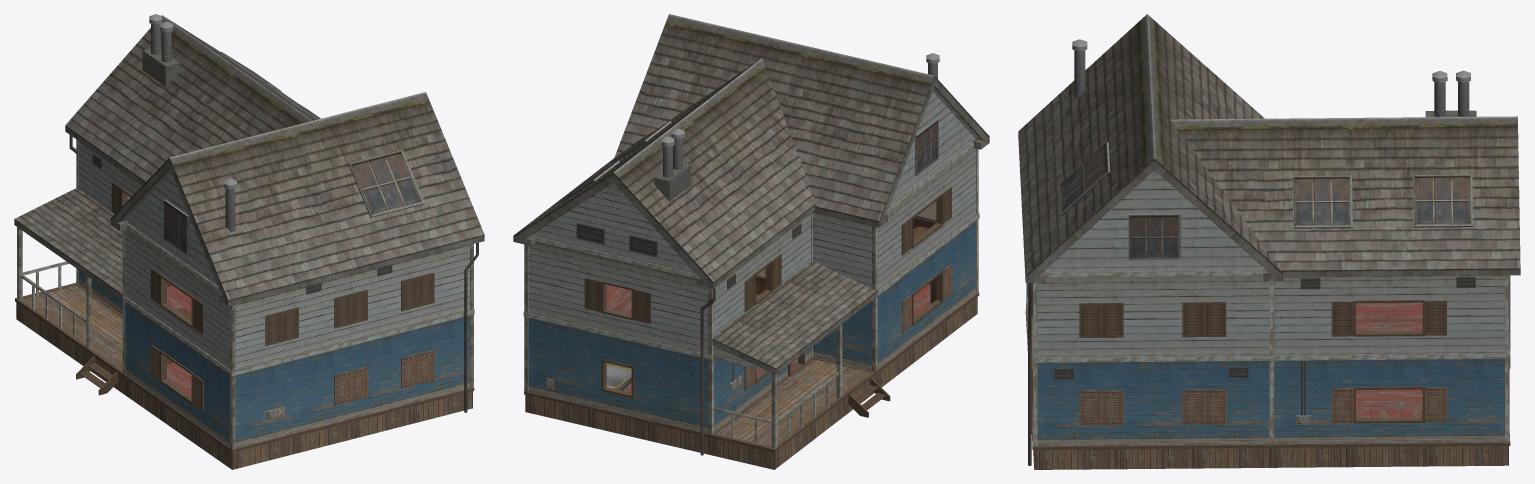
Rendered from house_ff.glb.
3 views of the same model, side by side, from view 1: azimuth 30°, elevation 25°; view 2: azimuth 150°, elevation 25°; view 3: azimuth 270°, elevation 25° (orthographic). The views are drawn at different scales.
Visible parts, largest first — view 1: concrete_wall_01D_D_MT_Concrete_Wall_01D, wood_wall_01_D_MT_Wood_Wall_01_D.027_0, wood_house_01A_D_MT_Wood_House_01A_D.031; view 2: concrete_wall_01D_D_MT_Concrete_Wall_01D, wood_wall_01_D_MT_Wood_Wall_01_D.027_0, wood_house_01A_D_MT_Wood_House_01A_D.031, bed items_MT_Others_Props_01_D.068_0; view 3: concrete_wall_01D_D_MT_Concrete_Wall_01D, wood_wall_01_D_MT_Wood_Wall_01_D.027_0, wood_house_01A_D_MT_Wood_House_01A_D.031.
Part boxes in pixels (x1=…): concrete_wall_01D_D_MT_Concrete_Wall_01D: x1=14, y1=14, x2=484, y2=419; wood_wall_01_D_MT_Wood_Wall_01_D.027_0: x1=17, y1=139, x2=474, y2=449; wood_house_01A_D_MT_Wood_House_01A_D.031: x1=15, y1=182, x2=474, y2=469; concrete_wall_01D_D_MT_Concrete_Wall_01D: x1=513, y1=14, x2=989, y2=455; wood_wall_01_D_MT_Wood_Wall_01_D.027_0: x1=523, y1=91, x2=979, y2=448; wood_house_01A_D_MT_Wood_House_01A_D.031: x1=524, y1=187, x2=979, y2=469; bed items_MT_Others_Props_01_D.068_0: x1=606, y1=218, x2=936, y2=390; concrete_wall_01D_D_MT_Concrete_Wall_01D: x1=1018, y1=14, x2=1520, y2=465; wood_wall_01_D_MT_Wood_Wall_01_D.027_0: x1=1026, y1=170, x2=1510, y2=446; wood_house_01A_D_MT_Wood_House_01A_D.031: x1=1025, y1=283, x2=1510, y2=469.
Bounding box in the file's own units: 7.34 × 7.33 × 10.17.
5 materials, 5 textured.
